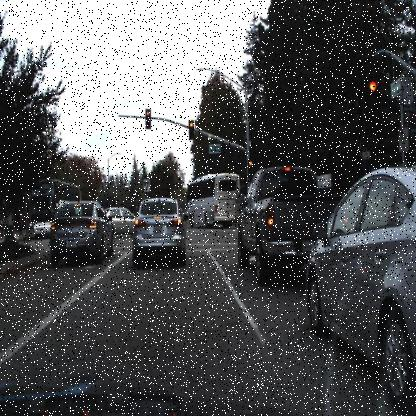car: (306, 166, 416, 384), (235, 165, 347, 284), (235, 166, 314, 286), (49, 199, 112, 263), (133, 197, 186, 267), (104, 206, 135, 238), (107, 204, 136, 234)
trafficLight-Red: (366, 74, 379, 124), (366, 77, 378, 120), (188, 119, 195, 139), (247, 158, 254, 174), (189, 119, 194, 139), (247, 158, 252, 177)
trafficLight-RedLeft: (145, 109, 151, 130)
truck: (28, 180, 82, 234), (186, 174, 240, 228), (29, 179, 80, 235)
